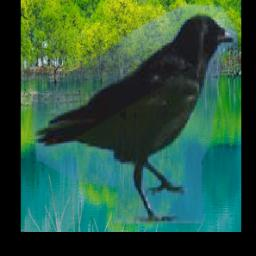Crow: (33, 5, 238, 223)
